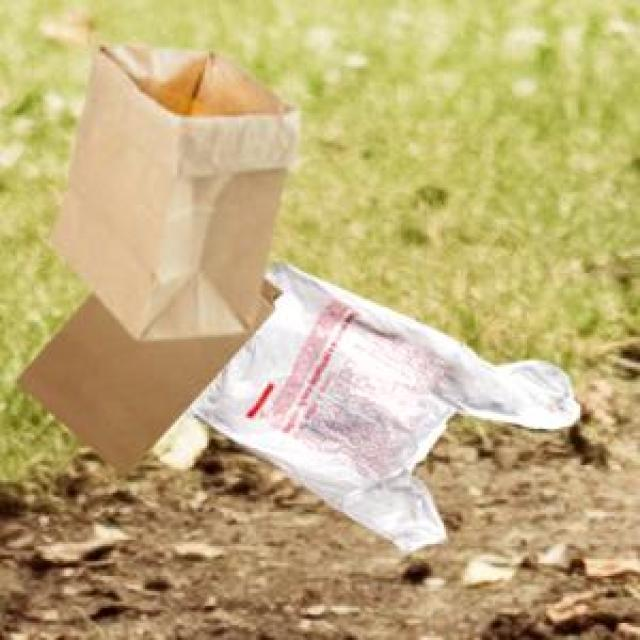paper: (47, 41, 294, 335), (13, 274, 277, 472)
